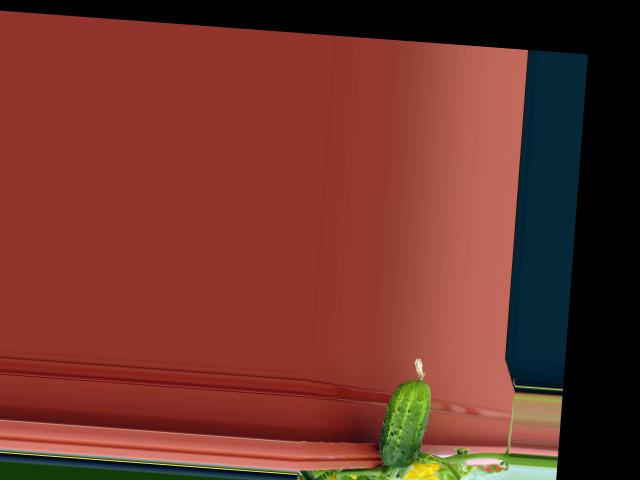cucumber: (378, 355, 434, 471)
